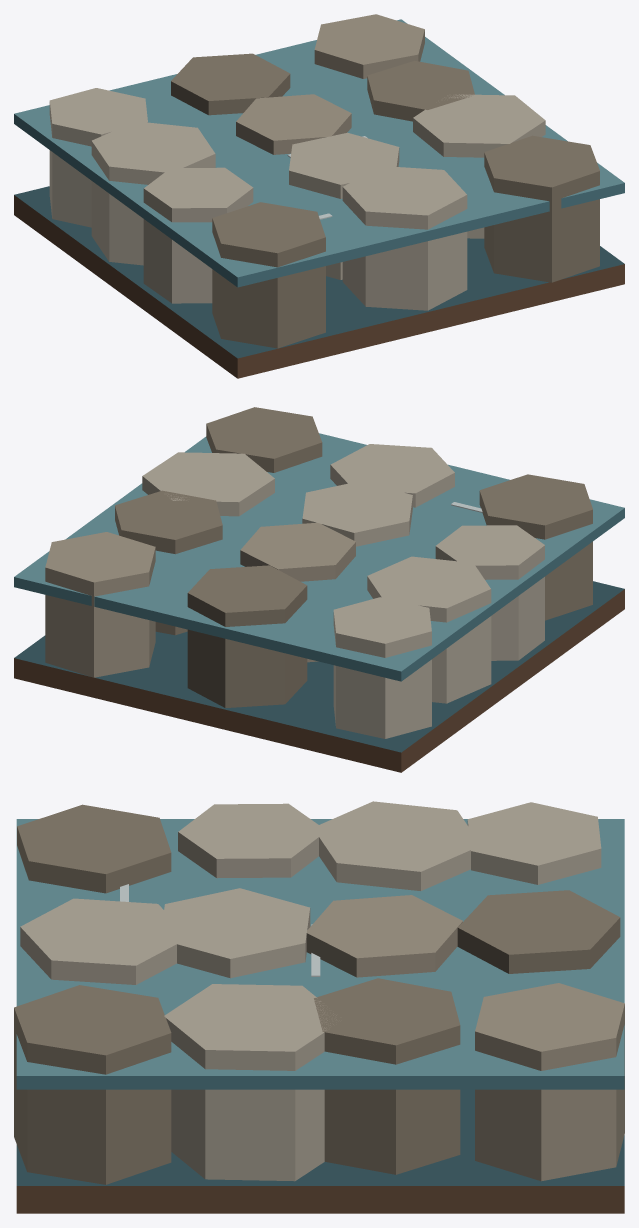
Rendered from t_ford.glb.
3 renders of one model, top to bottom at view 1: azimuth 30°, elevation 25°; view 2: azimuth 150°, elevation 25°; view 3: azimuth 270°, elevation 25°, orthographic. The views are drawn at different scales.
Parts seen in each view (by area): view 1: t_ford, t_ford_water; view 2: t_ford, t_ford_water; view 3: t_ford, t_ford_water.
Part boxes in pixels (box(x1,y1,x2,y2)): t_ford: box(14, 14, 624, 378); t_ford_water: box(14, 19, 624, 287); t_ford: box(14, 407, 624, 772); t_ford_water: box(14, 433, 624, 681); t_ford: box(14, 801, 624, 1213); t_ford_water: box(16, 819, 624, 1089).
Size of the model in its own units: 2 by 0.57 by 2.01.
